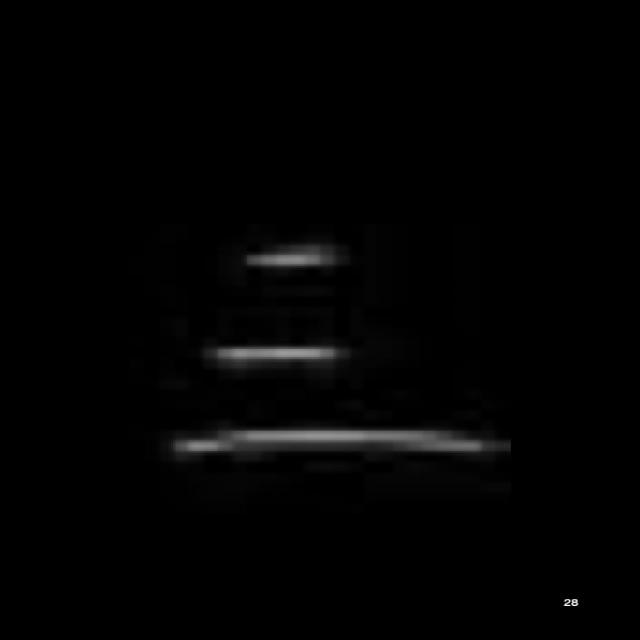3 -three-: (153, 230, 512, 477)
